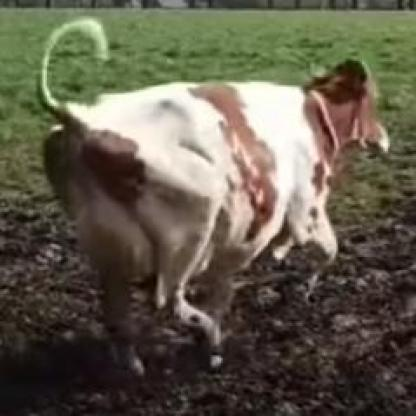cow: (43, 61, 390, 373)
